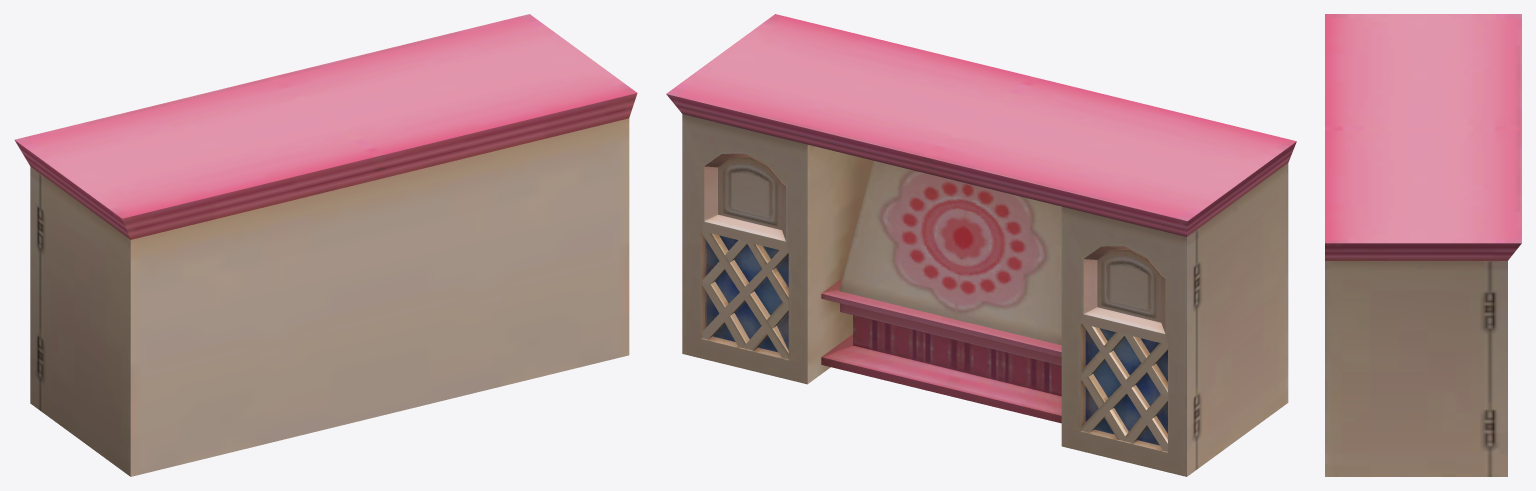
File: furni_0200016.FBX
The picture shows the model from 3 angles, left to right: view 1: azimuth 30°, elevation 25°; view 2: azimuth 150°, elevation 25°; view 3: azimuth 270°, elevation 25°; orthographic projection. The views are drawn at different scales.
Parts seen in each view (by area): view 1: furni_0200016; view 2: furni_0200016; view 3: furni_0200016.
Part boxes in pixels (box(x1,y1,x2,y2)): furni_0200016: box(14, 14, 637, 476); furni_0200016: box(666, 14, 1296, 476); furni_0200016: box(1325, 14, 1521, 476).
Size of the model in its own units: 165 by 79.85 by 60.
Materials: 1 (1 with a texture image).
